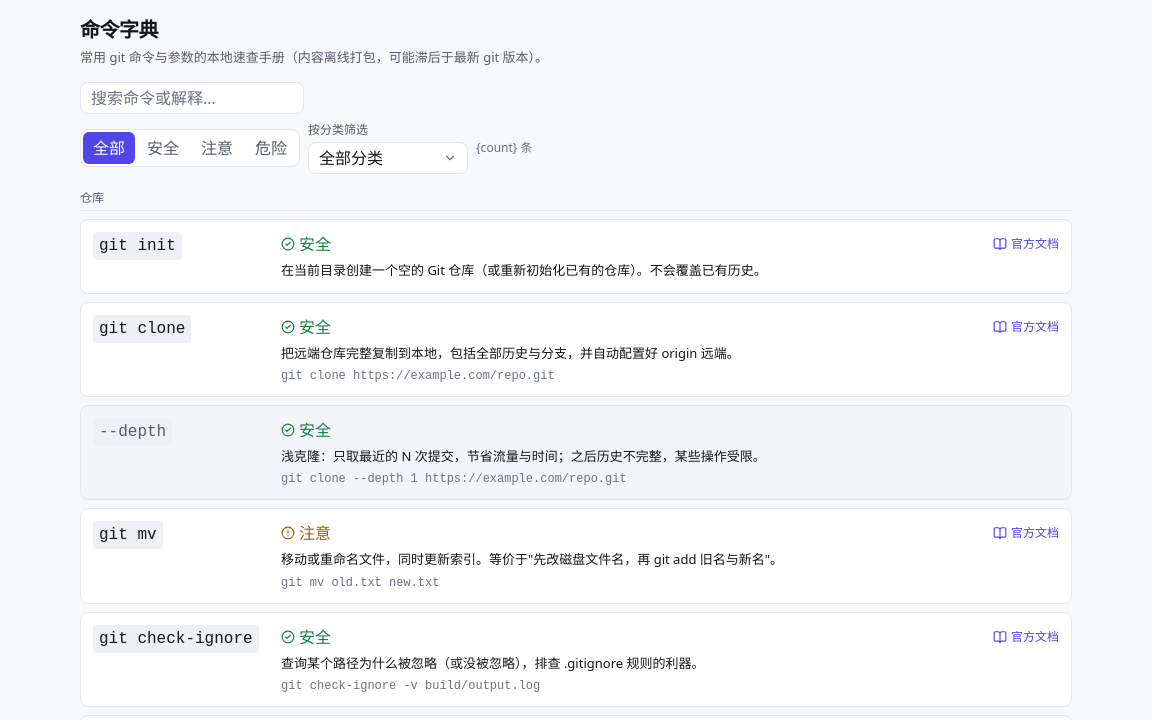
Test: CommandDictionaryPage › 风险筛选只看命令自身的风险
Click the radio button labelled "危险" at {"x": 271, "y": 148}, box [245,132,297,164]
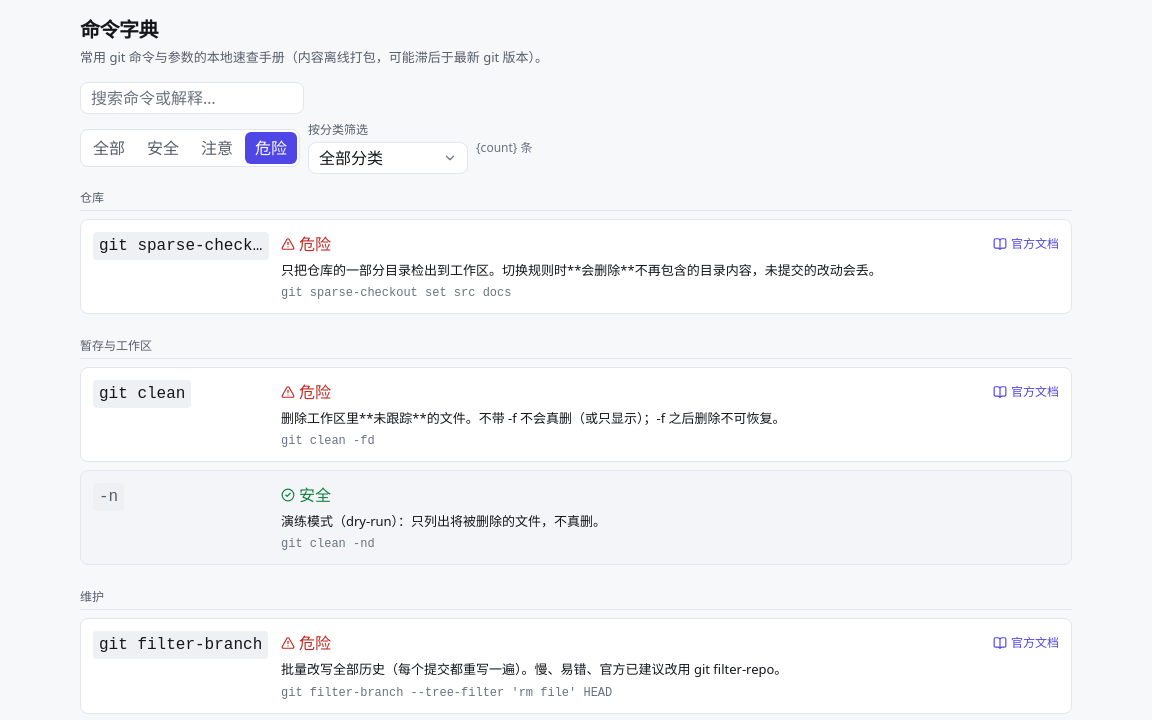
Expected: the text "git clean" is shown, [93,380,191,408]
Result: the text "git init" is gone
